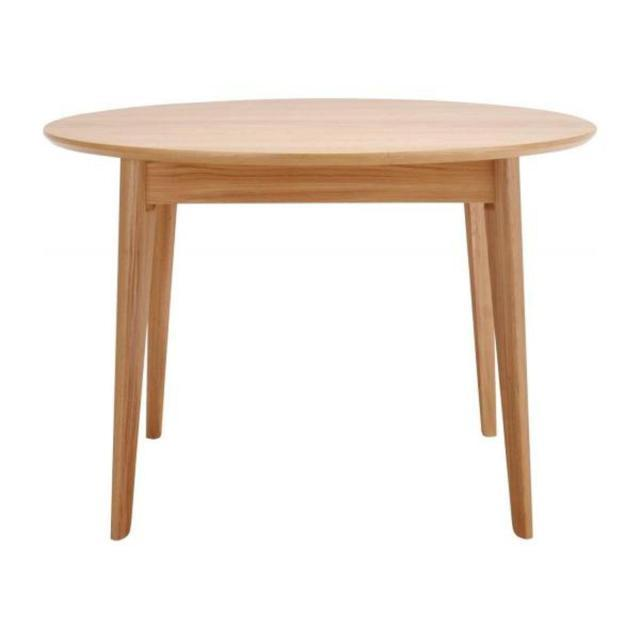table: (39, 75, 611, 548)
